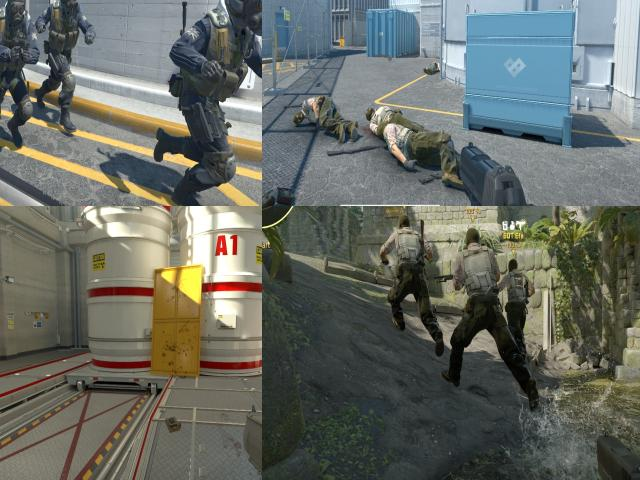Bomb: (161, 410, 183, 438), (513, 272, 526, 291)
CT: (178, 0, 262, 196), (43, 0, 85, 132), (0, 0, 36, 131)
CT-Head: (223, 0, 262, 33), (5, 0, 26, 19), (61, 0, 78, 10)
Dead: (376, 120, 466, 180), (295, 94, 358, 139), (366, 104, 430, 136), (426, 60, 440, 74)
T: (451, 227, 505, 384), (387, 208, 431, 336), (504, 251, 534, 362)
T-Head: (458, 227, 485, 252), (390, 211, 414, 237), (507, 256, 522, 272)
